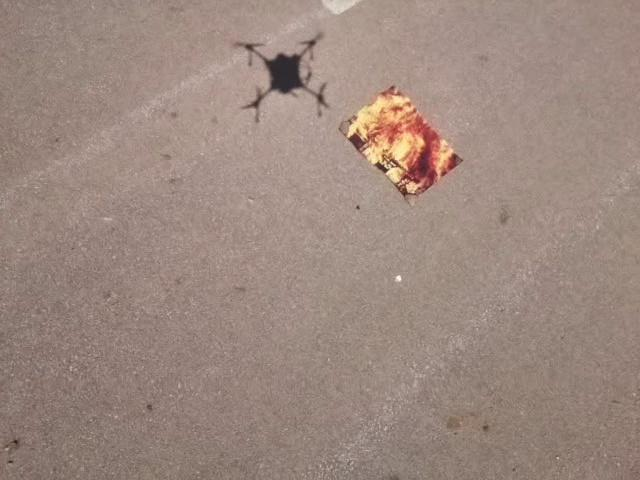fire-poster: (338, 83, 464, 205)
